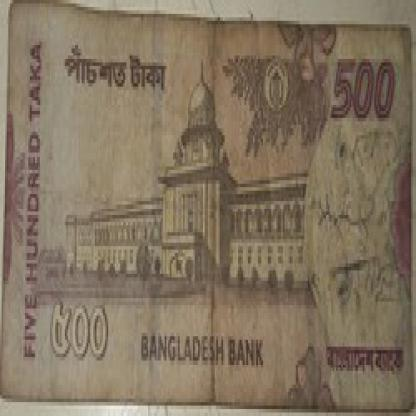500 taka: (55, 35, 190, 104), (43, 295, 128, 371), (321, 48, 401, 125)
currency: (8, 0, 408, 406)
